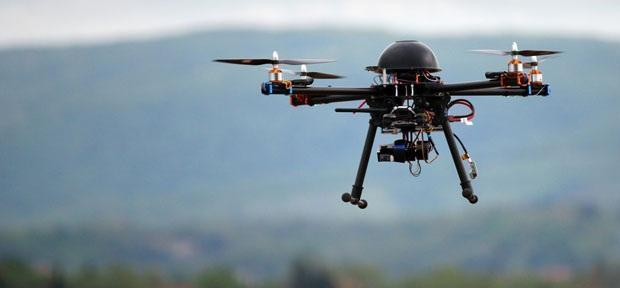UAV: (257, 38, 554, 214)
